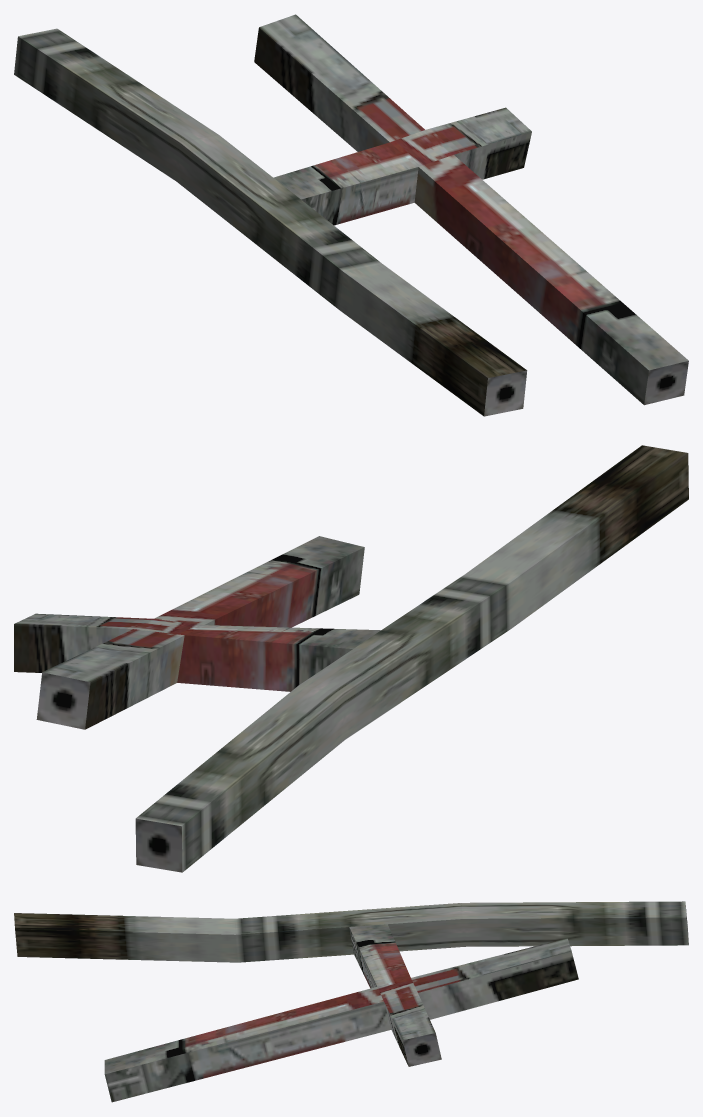
The model's file is xwing_debris_g_l0.fbx.
The picture shows the model from 3 angles, top to bottom: view 1: azimuth 30°, elevation 25°; view 2: azimuth 150°, elevation 25°; view 3: azimuth 270°, elevation 25°; orthographic projection. The views are drawn at different scales.
Visible parts, largest first — view 1: mesh_node; view 2: mesh_node; view 3: mesh_node.
Boxes of the visible parts, x1,y1,x2,y2 form: mesh_node: (14, 14, 688, 416); mesh_node: (14, 445, 688, 872); mesh_node: (14, 901, 688, 1102).
Bounding box in the file's own units: 0.5768 × 0.289 × 1.42.
Materials: 1 (1 with a texture image).
